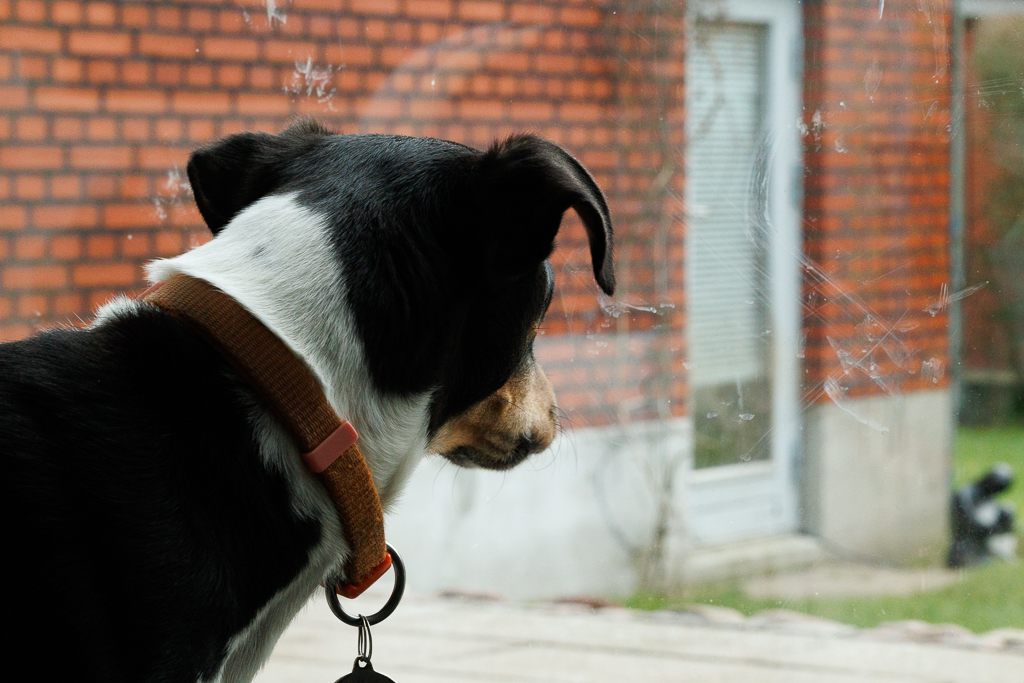Dog: (0, 108, 629, 683)
Humanoid: (940, 456, 1024, 578)
